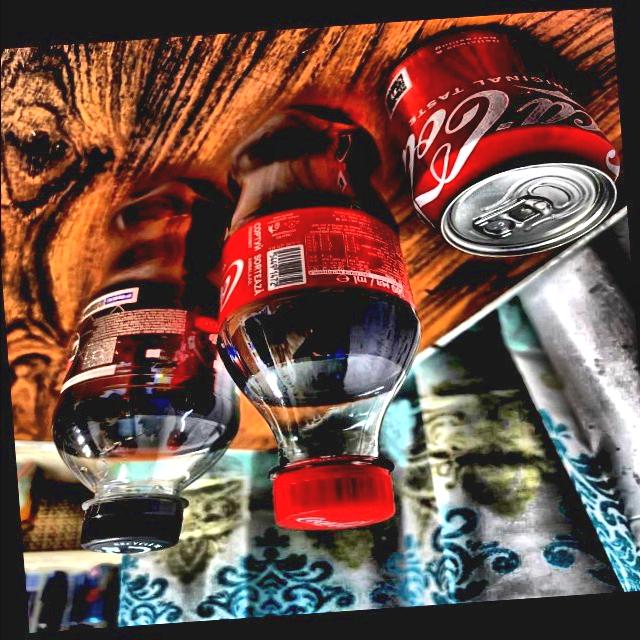coke-bottle: (223, 116, 420, 542)
coke-can: (394, 29, 622, 263)
pepsi-bottle: (54, 172, 226, 558)
